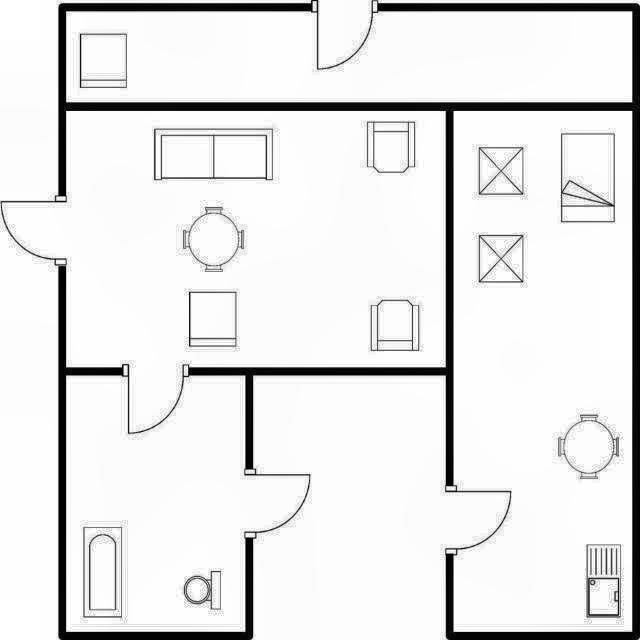room: (66, 111, 446, 367), (454, 111, 632, 632), (66, 11, 632, 102), (66, 375, 245, 632)
